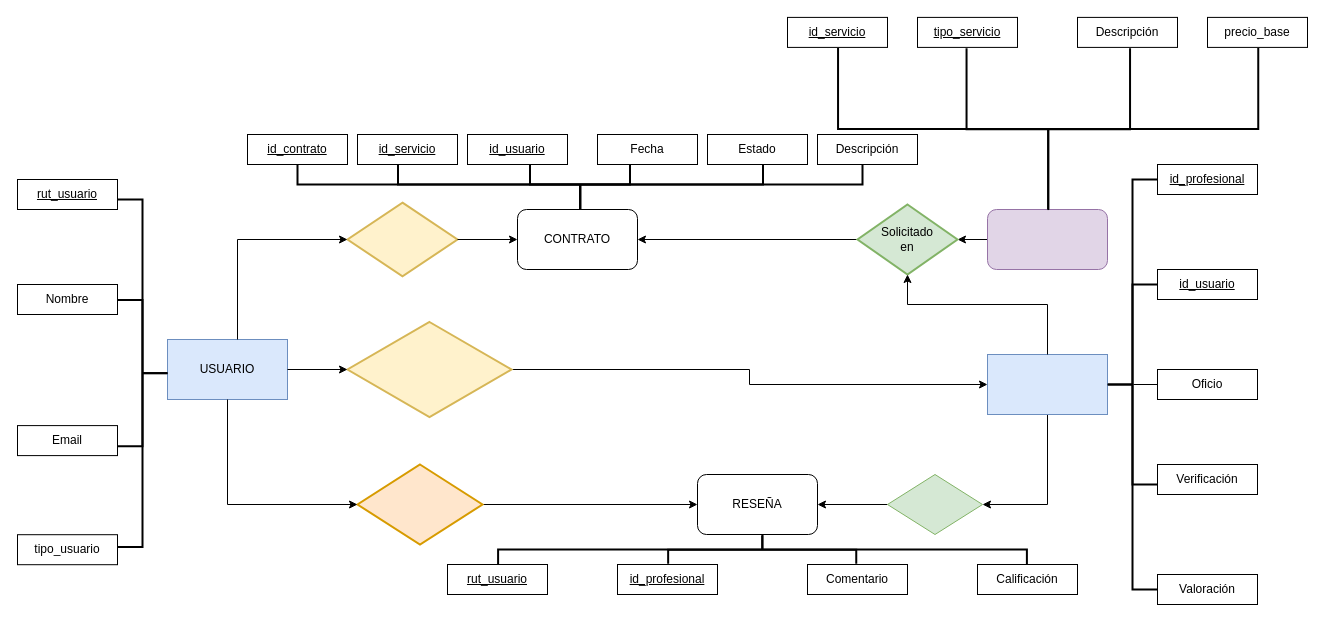
Image size: 1325x623. Some labels were removed from this diagram. The shapes that lost their labels are listed below. From the top down, each one's centre as x and y in pixels, then its label:
point 402,239: Petición de trabajo
point 1047,239: SERVICIO
point 429,369: Puede inscribirse para ser
point 1047,384: PROFESIONAL
point 419,504: Puede OPTAR por escribir
point 934,504: Puede recibir
